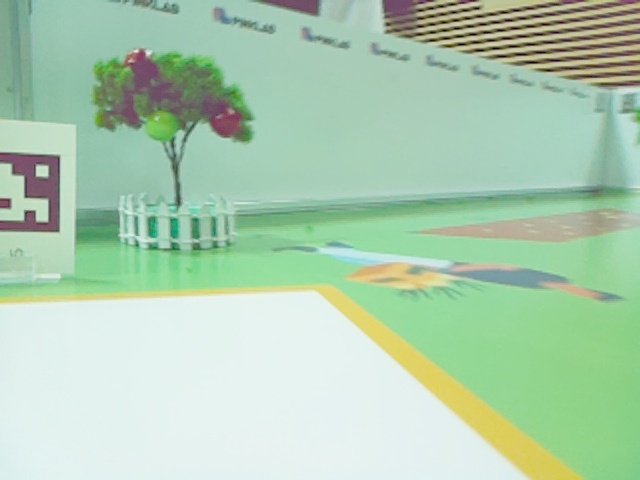apple: (205, 103, 245, 143), (121, 44, 162, 78)
